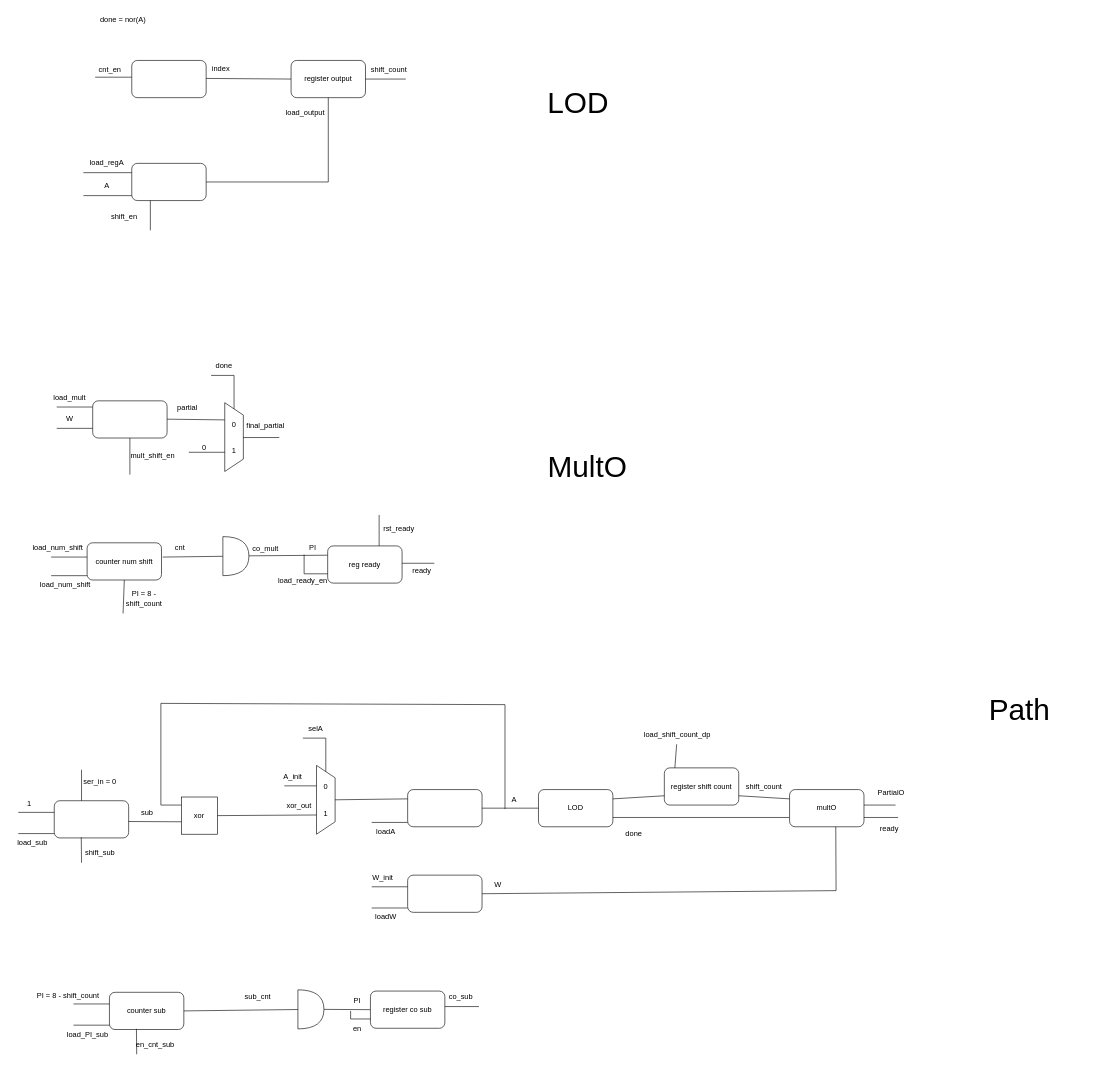
The diagram is 1116 pixels wide and 1066 high, and some of its shapes have lost their labels. The centre of each missing label's shape, as x and y in pixels:
"counterLOD" goes at point 168,79.
"mult shift register" goes at point 129,419.
"register regA" goes at point 444,808.
"register regW" goes at point 444,893.
"shift register regA" goes at point 168,182.
"shift register sub_reg" goes at point 91,819.
